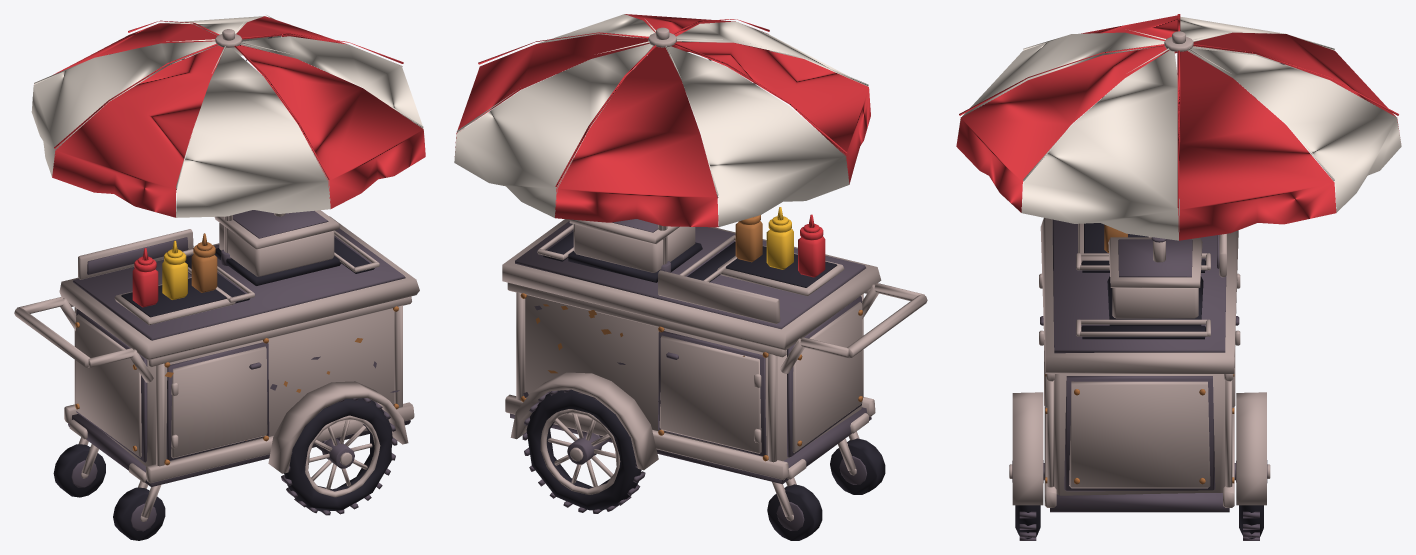
File: prop.vending-cart.lod1.glb
The picture shows the model from 3 angles, left to right: view 1: azimuth 30°, elevation 25°; view 2: azimuth 150°, elevation 25°; view 3: azimuth 270°, elevation 25°; orthographic projection. The views are drawn at different scales.
Visible parts, largest first — view 1: object 2, body; view 2: object 2, body; view 3: object 2, body.
Part boxes in pixels (bbox=[...]): object 2: bbox=[31, 15, 425, 540]; body: bbox=[14, 29, 419, 517]; object 2: bbox=[454, 14, 885, 540]; body: bbox=[502, 27, 927, 516]; object 2: bbox=[956, 14, 1401, 540]; body: bbox=[1012, 31, 1266, 507].
Size of the model in its own units: 2.4 by 2.69 by 2.27.
